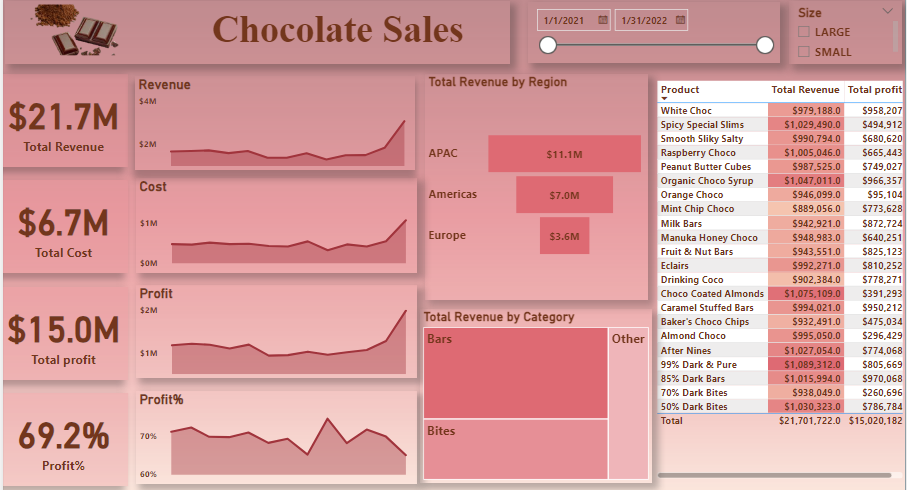

The page's visual inventory and layout, read from the dashboard file:
{"tool":"powerbi","page":{"name":"Revenue1","canvas":[1280,720],"ordinal":0},"visuals":[{"type":"shape","box":[2.5,11.1,715.7,89.3],"z":0,"group":"g4"},{"type":"funnel","fields":{"Category":["locations.Region"],"Y":["sales.Total Amount"]},"box":[598.7,113.7,316.1,319.8],"z":0,"group":"g3"},{"type":"card","fields":{"Values":["sales.Total Amount"]},"box":[-5.9,114.6,182.8,131.5],"z":0,"group":"g1"},{"type":"stackedAreaChart","title":"Revenue","fields":{"Category":["sales.Date.Variation.Date Hierarchy.Year","sales.Date.Variation.Date Hierarchy.Quarter","sales.Date.Variation.Date Hierarchy.Month","sales.Date.Variation.Date Hierarchy.Day"],"Y":["sales.Total Amount"]},"box":[187.1,116.6,396.9,132.7],"z":0,"group":"g2"},{"type":"group","id":"g1","title":"Group 1","box":[-5.9,114.6,182.8,583.9],"z":1000,"group":"g5"},{"type":"stackedAreaChart","title":"Cost","fields":{"Category":["sales.Date.Variation.Date Hierarchy.Year","sales.Date.Variation.Date Hierarchy.Quarter","sales.Date.Variation.Date Hierarchy.Month","sales.Date.Variation.Date Hierarchy.Day"],"Y":["sales.Total Cost"]},"box":[189.1,261.2,397.5,134.8],"z":1000,"group":"g2"},{"type":"treemap","fields":{"Group":["products.Category"],"Values":["sales.Total Amount"]},"box":[591,447.2,328.8,246.6],"z":1000,"group":"g3"},{"type":"card","fields":{"Values":["sales.Profit%"]},"box":[-5.9,567,182.8,131.5],"z":1000,"group":"g1"},{"type":"group","id":"g2","title":"Group 2","box":[187.1,116.6,396.9,578.3],"z":2000,"group":"g5"},{"type":"stackedAreaChart","title":"Profit","fields":{"Category":["sales.Date.Variation.Date Hierarchy.Year","sales.Date.Variation.Date Hierarchy.Quarter","sales.Date.Variation.Date Hierarchy.Month","sales.Date.Variation.Date Hierarchy.Day"],"Y":["sales.Total profit"]},"box":[189.1,412.1,397.5,131.6],"z":2000,"group":"g2"},{"type":"card","fields":{"Values":["sales.Total profit"]},"box":[-5.9,416.2,182.8,131.5],"z":2000,"group":"g1"},{"type":"tableEx","fields":{"Values":["sales.Product","sales.Total Amount","sales.Total profit"]},"box":[921.3,119.1,358.6,574],"z":3000},{"type":"card","fields":{"Values":["sales.Total Cost"]},"box":[-5.9,265.4,182.8,131.5],"z":3000,"group":"g1"},{"type":"stackedAreaChart","title":"Profit%","fields":{"Category":["sales.Date.Variation.Date Hierarchy.Year","sales.Date.Variation.Date Hierarchy.Quarter","sales.Date.Variation.Date Hierarchy.Month","sales.Date.Variation.Date Hierarchy.Day"],"Y":["sales.Profit%"]},"box":[189.1,563,397.5,131.6],"z":3000,"group":"g2"},{"type":"slicer","fields":{"Values":["sales.Date"]},"box":[744.1,12.7,357.2,86.5],"z":4000,"group":"g5"},{"type":"slicer","fields":{"Values":["products.Size"]},"box":[1113.8,10.7,160.2,89.3],"z":5000,"group":"g5"},{"type":"group","id":"g3","title":"Group 3","box":[591,113.7,328.8,580.1],"z":6000,"group":"g5"},{"type":"textbox","box":[289.1,15.5,384,82],"z":7000,"group":"g4"},{"type":"image","box":[16.6,11.1,173.6,82],"z":8001,"group":"g4"},{"type":"group","id":"g4","title":"Group 4","box":[2.5,11.1,715.7,89.3],"z":8002,"group":"g5"},{"type":"group","id":"g5","title":"Group 5","box":[-5.9,10.7,1279.8,687.8],"z":8003}]}

Visuals, with their boxes on the page's 1280x720 design canvas (x1, y1, x2, y2). These are canvas units, not pixel positions in the 907x490 screenshot, which may show the page scaled, cropped or inside an application window:
shape: BBox(2, 11, 718, 100)
funnel - locations.Region x sales.Total Amount: BBox(599, 114, 915, 434)
card - sales.Total Amount: BBox(-6, 115, 177, 246)
"Revenue" stackedAreaChart: BBox(187, 117, 584, 249)
"Group 1" group: BBox(-6, 115, 177, 698)
"Cost" stackedAreaChart: BBox(189, 261, 587, 396)
treemap - products.Category x sales.Total Amount: BBox(591, 447, 920, 694)
card - sales.Profit%: BBox(-6, 567, 177, 698)
"Group 2" group: BBox(187, 117, 584, 695)
"Profit" stackedAreaChart: BBox(189, 412, 587, 544)
card - sales.Total profit: BBox(-6, 416, 177, 548)
tableEx - sales.Product x sales.Total Amount: BBox(921, 119, 1280, 693)
card - sales.Total Cost: BBox(-6, 265, 177, 397)
"Profit%" stackedAreaChart: BBox(189, 563, 587, 695)
slicer - sales.Date: BBox(744, 13, 1101, 99)
slicer - products.Size: BBox(1114, 11, 1274, 100)
"Group 3" group: BBox(591, 114, 920, 694)
textbox: BBox(289, 16, 673, 98)
image: BBox(17, 11, 190, 93)
"Group 4" group: BBox(2, 11, 718, 100)
"Group 5" group: BBox(-6, 11, 1274, 698)
